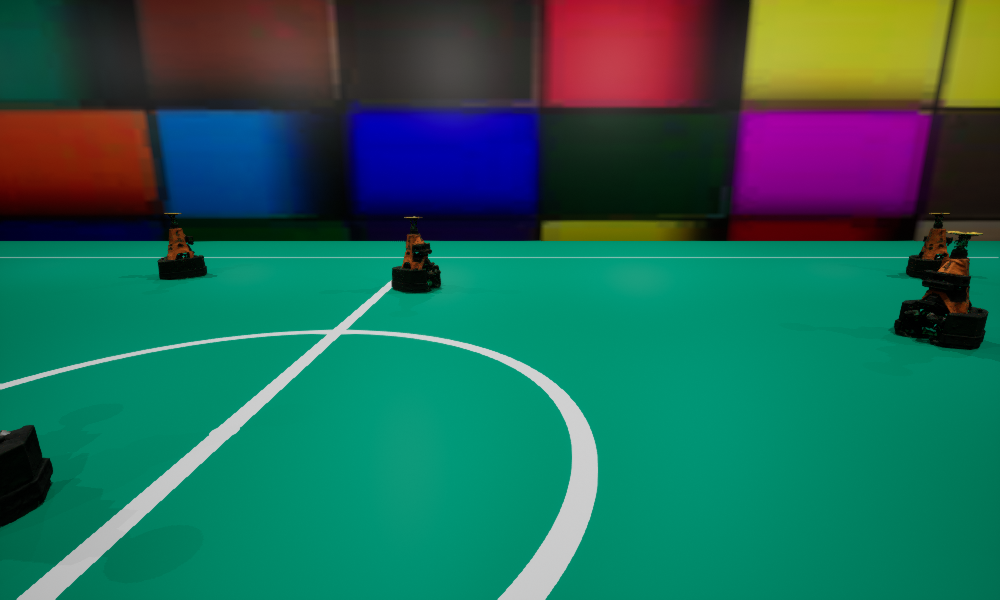0 orange robot TechUnited: (894, 231, 988, 348), (0, 425, 52, 526), (392, 216, 440, 292), (157, 213, 206, 279), (906, 213, 952, 278)
